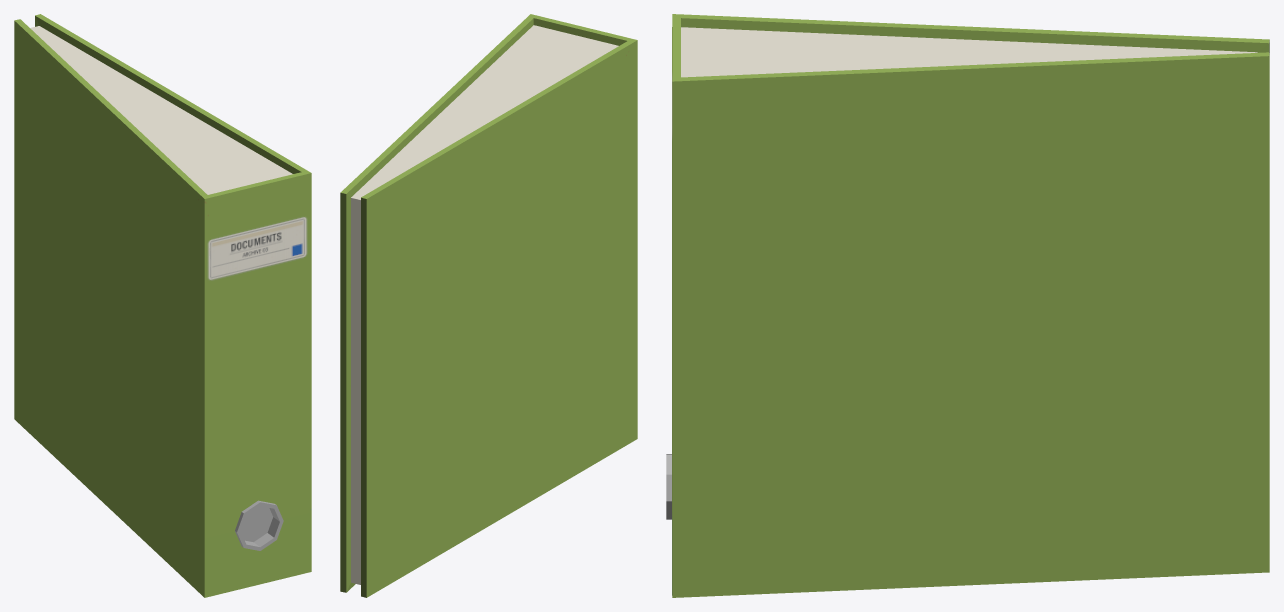
File: Document_Cover_Green.fbx
3 views of the same model, side by side, from view 1: azimuth 30°, elevation 25°; view 2: azimuth 150°, elevation 25°; view 3: azimuth 270°, elevation 25° (orthographic). The views are drawn at different scales.
Parts seen in each view (by area): view 1: Cape_Office.002; view 2: Cape_Office.002; view 3: Cape_Office.002.
Boxes of the visible parts, x1,y1,x2,y2 form: Cape_Office.002: (14,14,311,597); Cape_Office.002: (340,14,637,597); Cape_Office.002: (666,14,1269,597).
Bounding box in the file's own units: 8 × 28.5 × 30.17.
